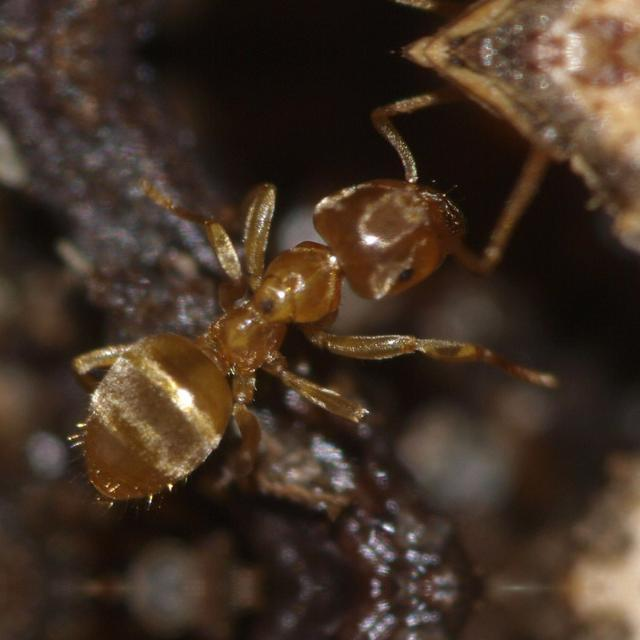Lasius: (26, 72, 582, 550)
